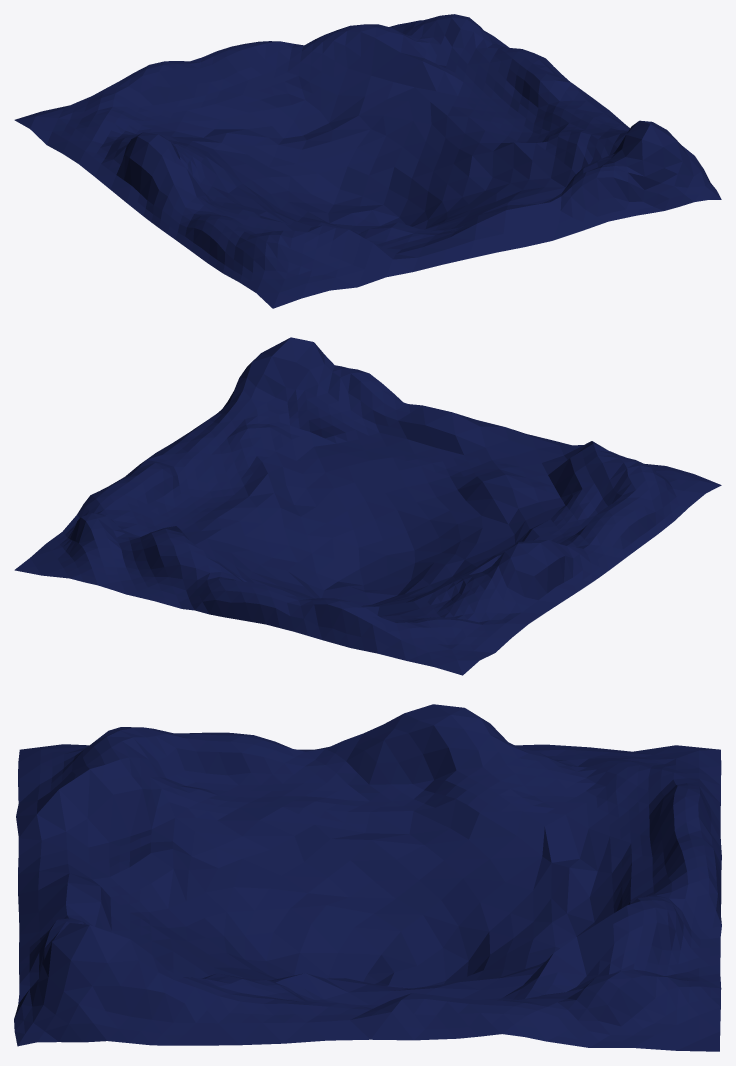
File: skyboxMountains.glb
The picture shows the model from 3 angles, top to bottom: view 1: azimuth 30°, elevation 25°; view 2: azimuth 150°, elevation 25°; view 3: azimuth 270°, elevation 25°; orthographic projection. The views are drawn at different scales.
Parts seen in each view (by area): view 1: Skybox; view 2: Skybox; view 3: Skybox.
Boxes of the visible parts, x1,y1,x2,y2 form: Skybox: (14, 14, 721, 308); Skybox: (14, 337, 721, 675); Skybox: (14, 704, 721, 1051).
Bounding box in the file's own units: 3.98 × 1.11 × 3.95.
